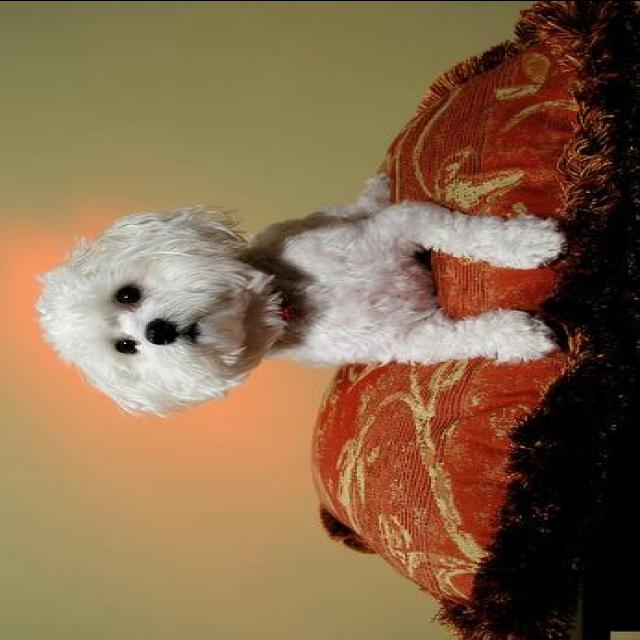shih_tzu: (39, 173, 562, 416)
